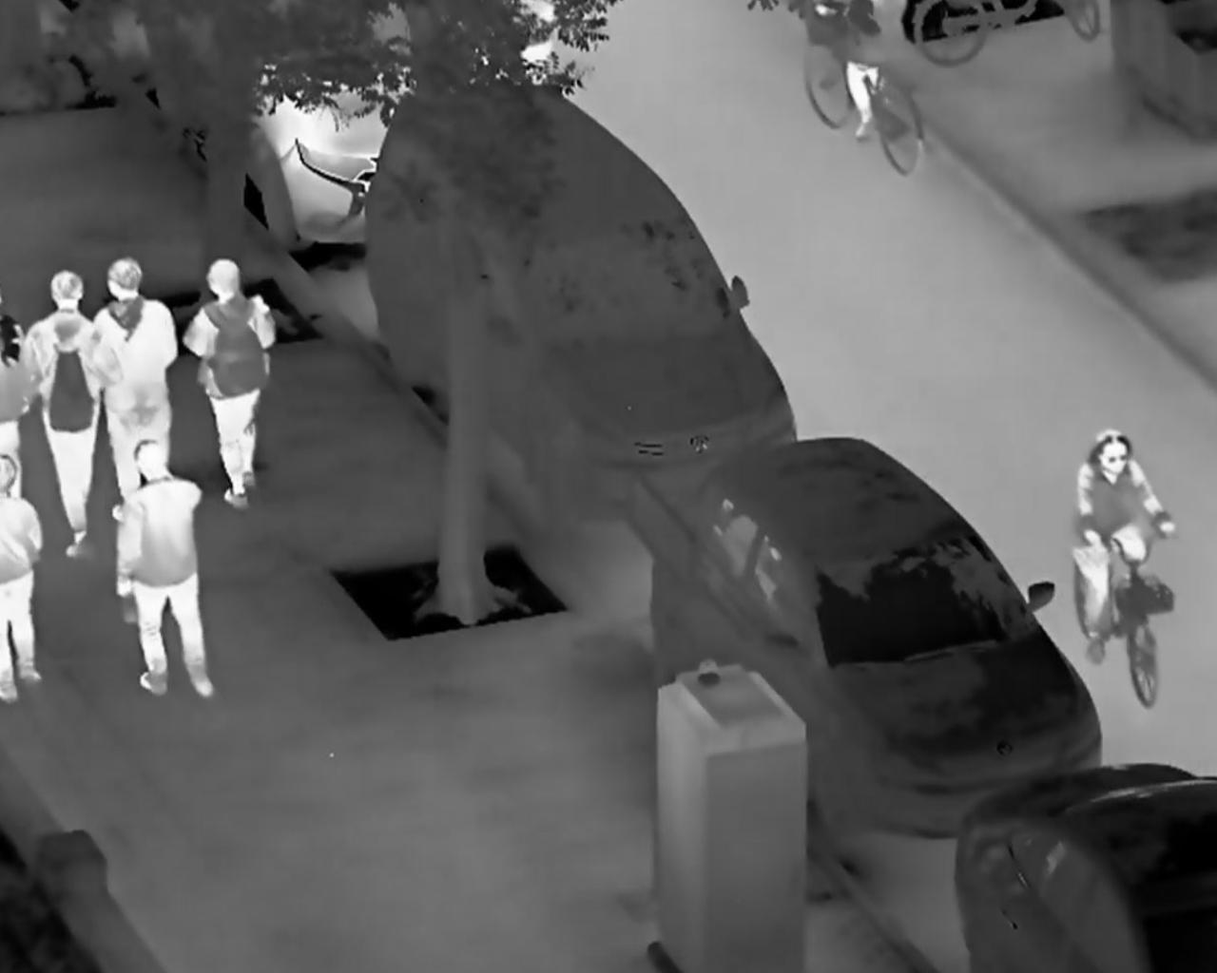person: (23, 268, 126, 556), (116, 437, 217, 699), (1072, 428, 1179, 671), (181, 256, 277, 513), (92, 255, 179, 525)
